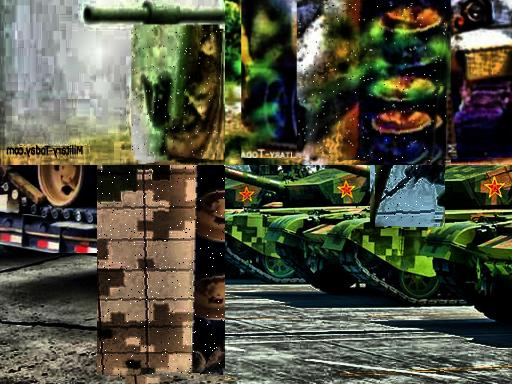tanks: (269, 166, 512, 307), (98, 166, 226, 377), (299, 1, 446, 162), (133, 26, 222, 159), (427, 224, 512, 321), (85, 4, 226, 26), (376, 166, 393, 227)
